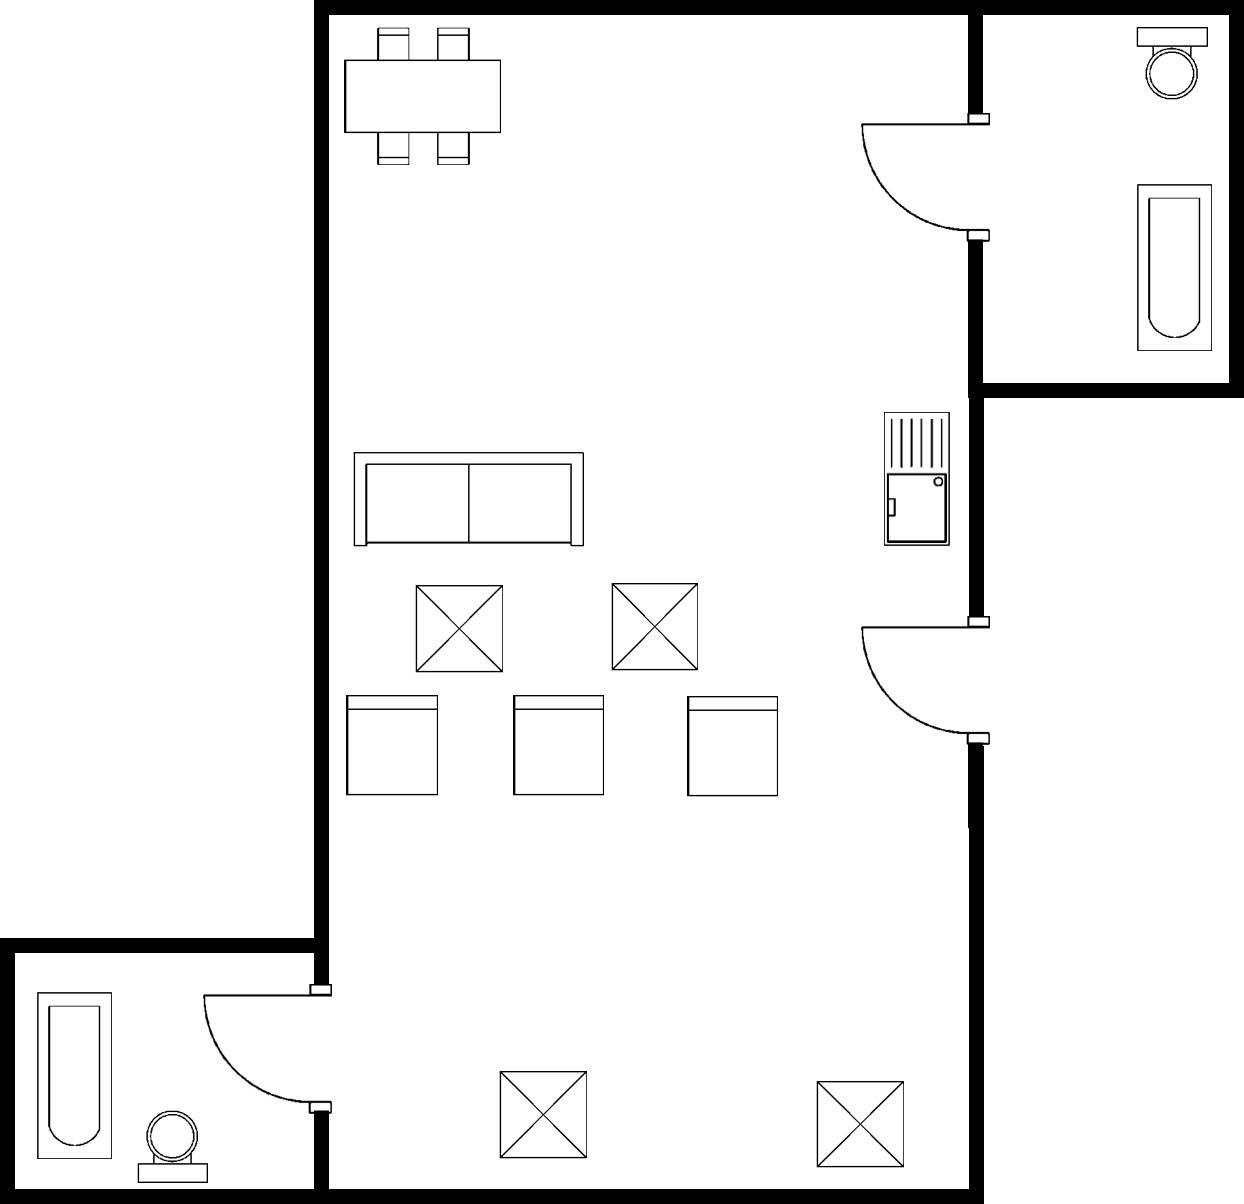dining_table: (338, 18, 510, 177)
sink: (874, 402, 957, 556)
sofa: (345, 445, 596, 559)
toilet: (1125, 20, 1220, 106), (129, 1100, 222, 1185)
tub: (1128, 171, 1217, 361), (29, 982, 118, 1168)
